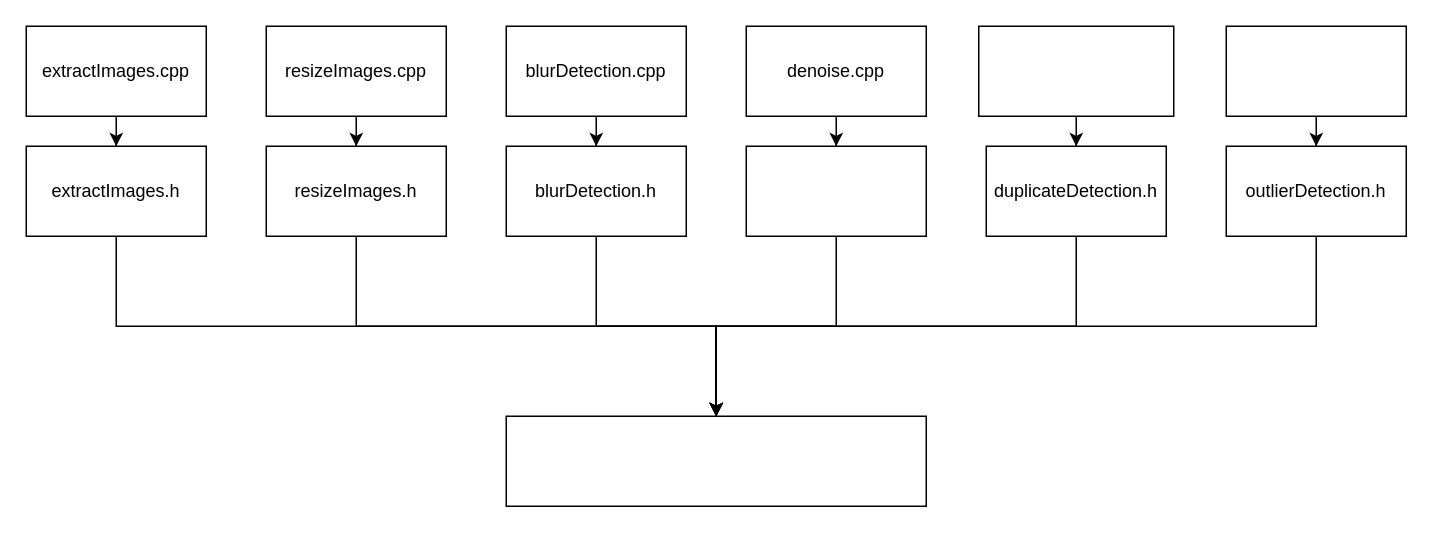
This 1433x533 diagram has some shape labels left out. Each missing label, with the centre of its shape:
"denoise.h" goes at point 835,190.
"duplicateDetection.cpp" goes at point 1075,70.
"outlierDetection.cpp" goes at point 1315,70.
"Vid2Photogrammetry.h" goes at point 715,460.
